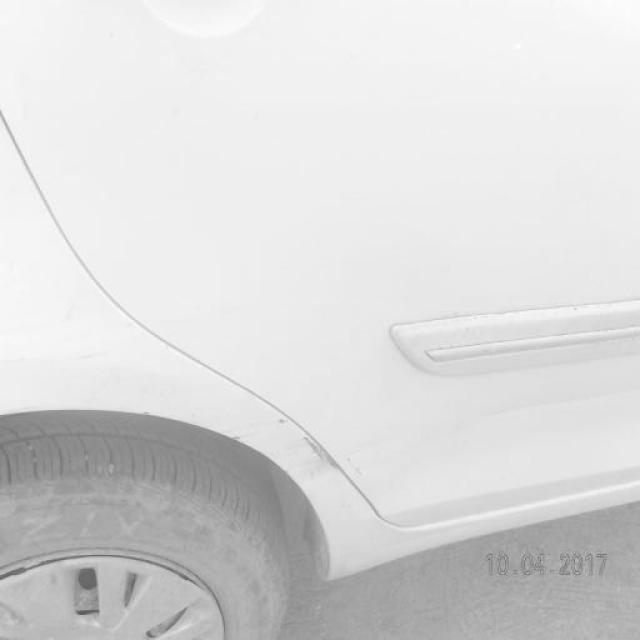car damage: (225, 414, 292, 444), (299, 433, 347, 470)
